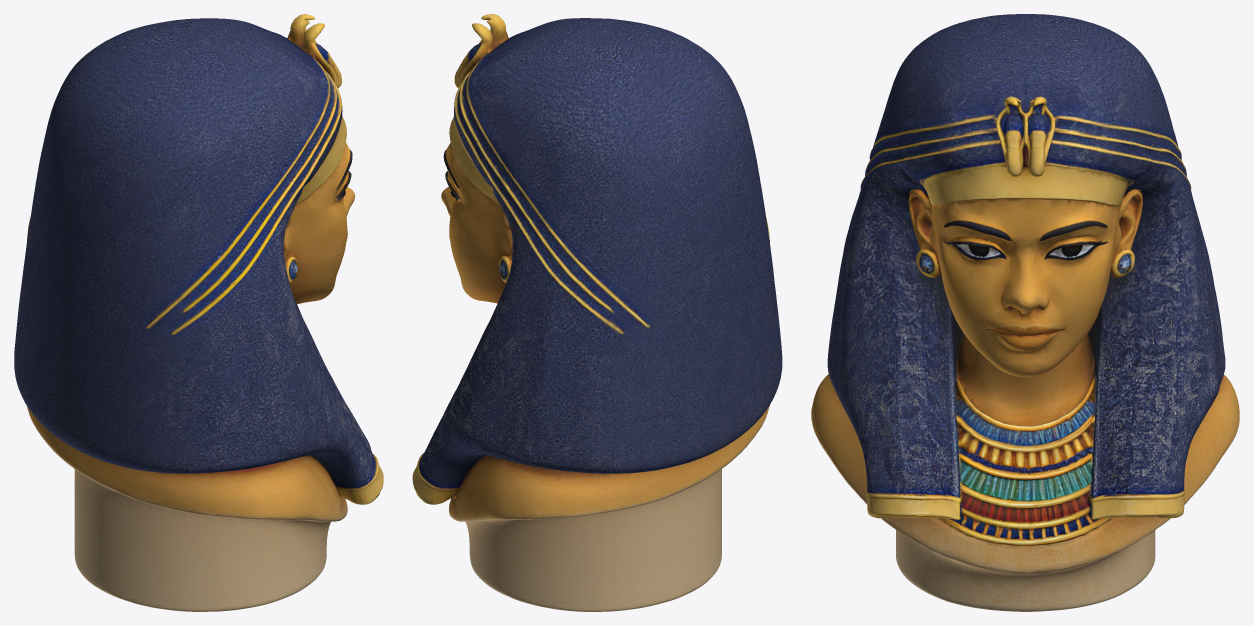
The model's file is hyp-2.glb.
The picture shows the model from 3 angles, left to right: view 1: azimuth 30°, elevation 25°; view 2: azimuth 150°, elevation 25°; view 3: azimuth 270°, elevation 25°; orthographic projection.
Visible parts, largest first — view 1: tripo_node_922db924-4b55-4c0f-855f-9d9325aa46a5; view 2: tripo_node_922db924-4b55-4c0f-855f-9d9325aa46a5; view 3: tripo_node_922db924-4b55-4c0f-855f-9d9325aa46a5.
Boxes of the visible parts, left/top/right/bottom form: tripo_node_922db924-4b55-4c0f-855f-9d9325aa46a5: left=14, top=14, right=383, bottom=611; tripo_node_922db924-4b55-4c0f-855f-9d9325aa46a5: left=412, top=14, right=782, bottom=611; tripo_node_922db924-4b55-4c0f-855f-9d9325aa46a5: left=811, top=14, right=1239, bottom=611.
Bounding box in the file's own units: 0.6001 × 1 × 0.7353.
1 material, 1 textured.
